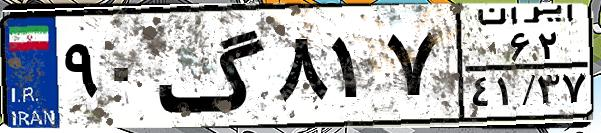0: (110, 28, 156, 98)
1: (330, 28, 385, 110), (495, 70, 520, 125)
2: (537, 27, 568, 80)
3: (535, 70, 560, 125)
4: (470, 70, 495, 125)
6: (508, 27, 537, 80)
7: (385, 28, 445, 110), (560, 70, 590, 125)
8: (270, 28, 330, 110)
9: (57, 26, 110, 100)
گ: (156, 12, 270, 120)
